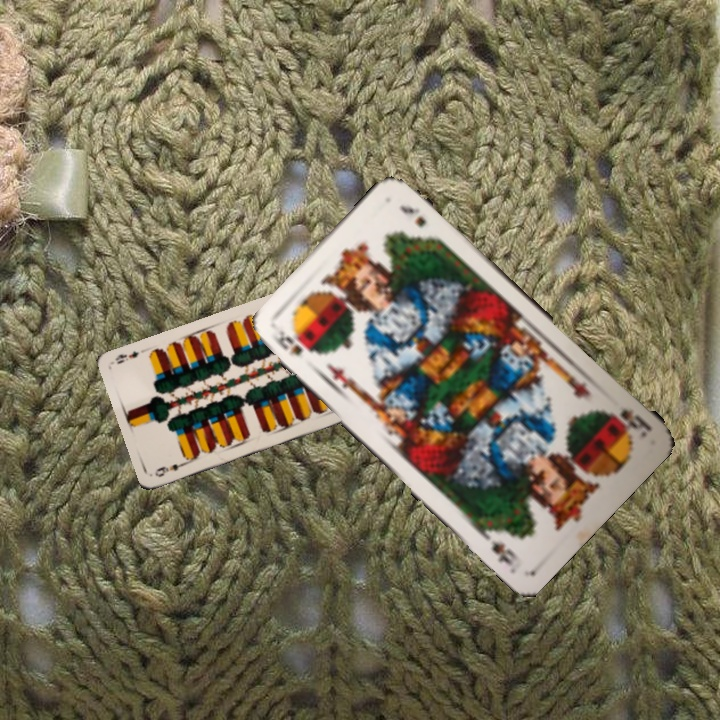E9: (151, 458, 190, 480)
SK: (607, 405, 655, 441), (266, 326, 306, 358)
